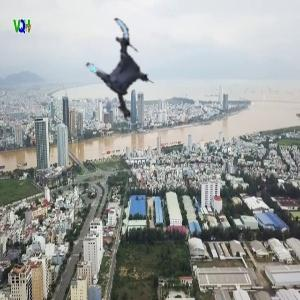drone: (73, 21, 166, 114)
